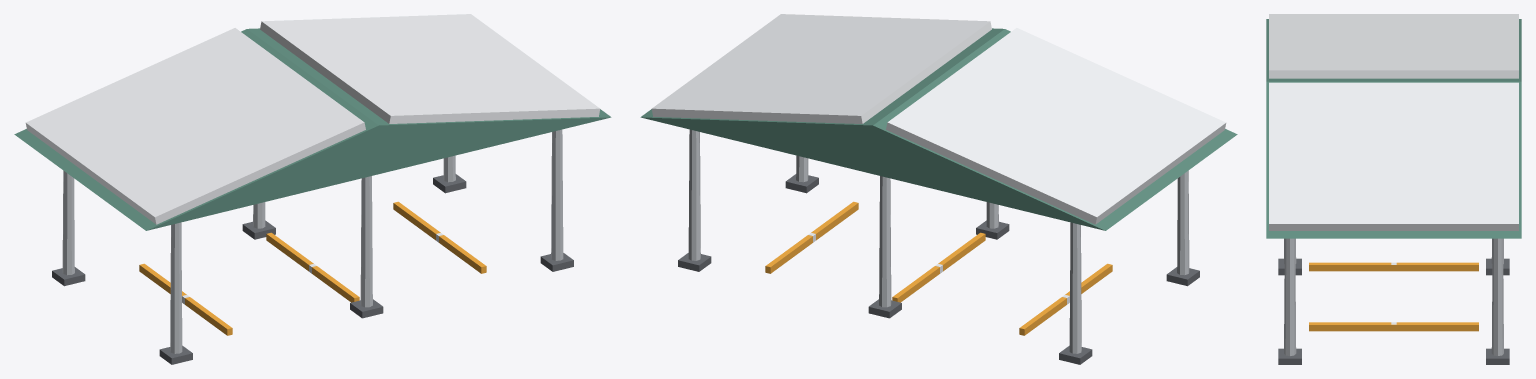
The model's file is canopy.glb.
3 renders of one model, left to right at view 1: azimuth 30°, elevation 25°; view 2: azimuth 150°, elevation 25°; view 3: azimuth 270°, elevation 25°, orthographic. The views are drawn at different scales.
Parts seen in each view (by area): view 1: car-park-shelter; view 2: car-park-shelter; view 3: car-park-shelter.
Part boxes in pixels (x1,y1,x2,y2): car-park-shelter: (14,14,611,364); car-park-shelter: (640,14,1237,364); car-park-shelter: (1266,14,1521,364).
Bounding box in the file's own units: 11 × 4.52 × 5.4.
